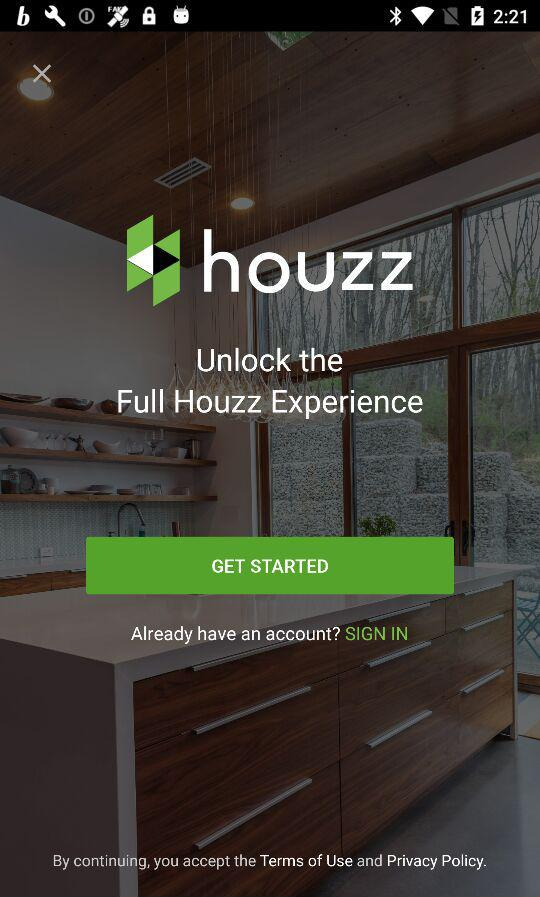BackgroundImage: (1, 33, 540, 897)
Icon: (33, 64, 53, 85)
Image: (127, 214, 414, 308)
Text: (118, 348, 424, 421), (53, 853, 487, 872), (131, 625, 408, 645)
TextButton: (86, 537, 455, 595)
UpperTaskBar: (1, 1, 540, 33)
